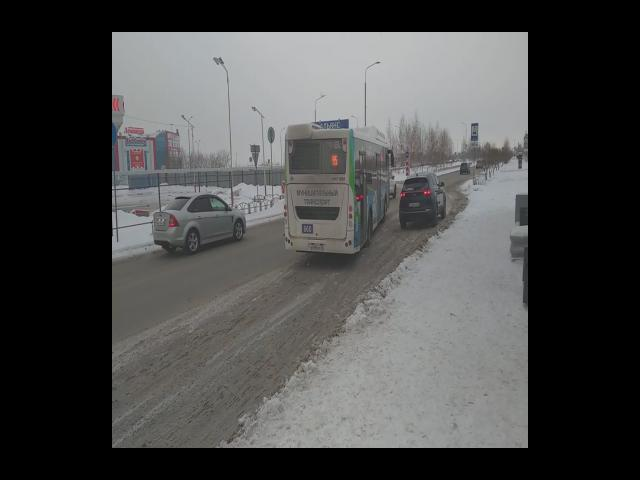bus: (282, 120, 396, 261)
car: (146, 190, 248, 255), (398, 170, 450, 228), (457, 159, 471, 177), (476, 161, 487, 172)
